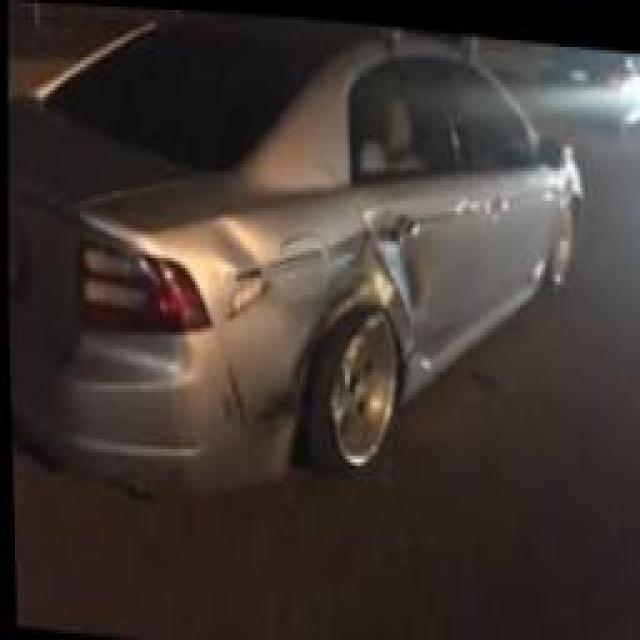rapairable: (208, 342, 300, 437), (201, 220, 275, 309)
replaceable: (360, 205, 434, 313)
